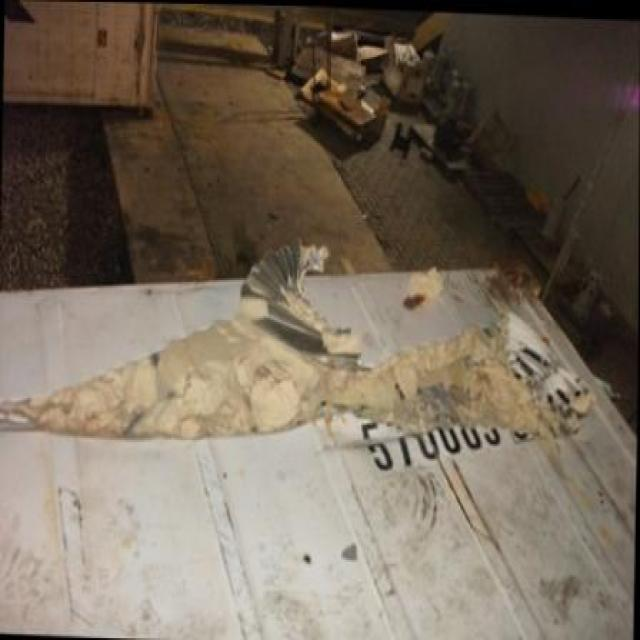hole: (1, 281, 587, 481)
